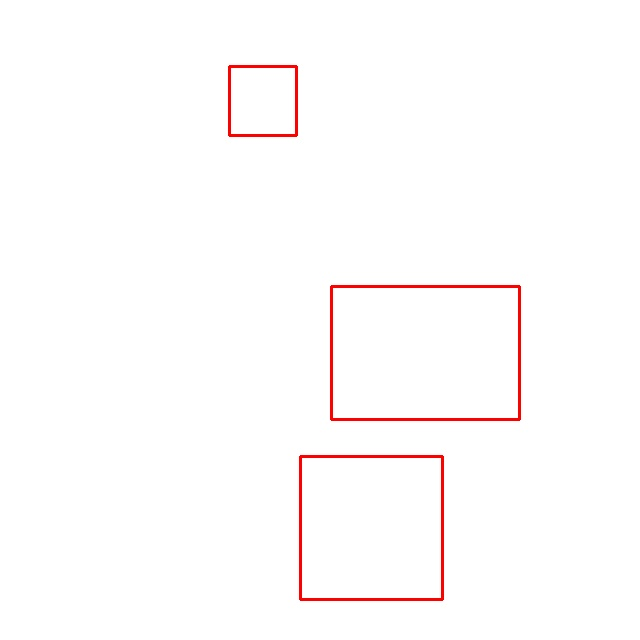weapon: (332, 287, 520, 419), (300, 457, 442, 599), (230, 66, 296, 136)
